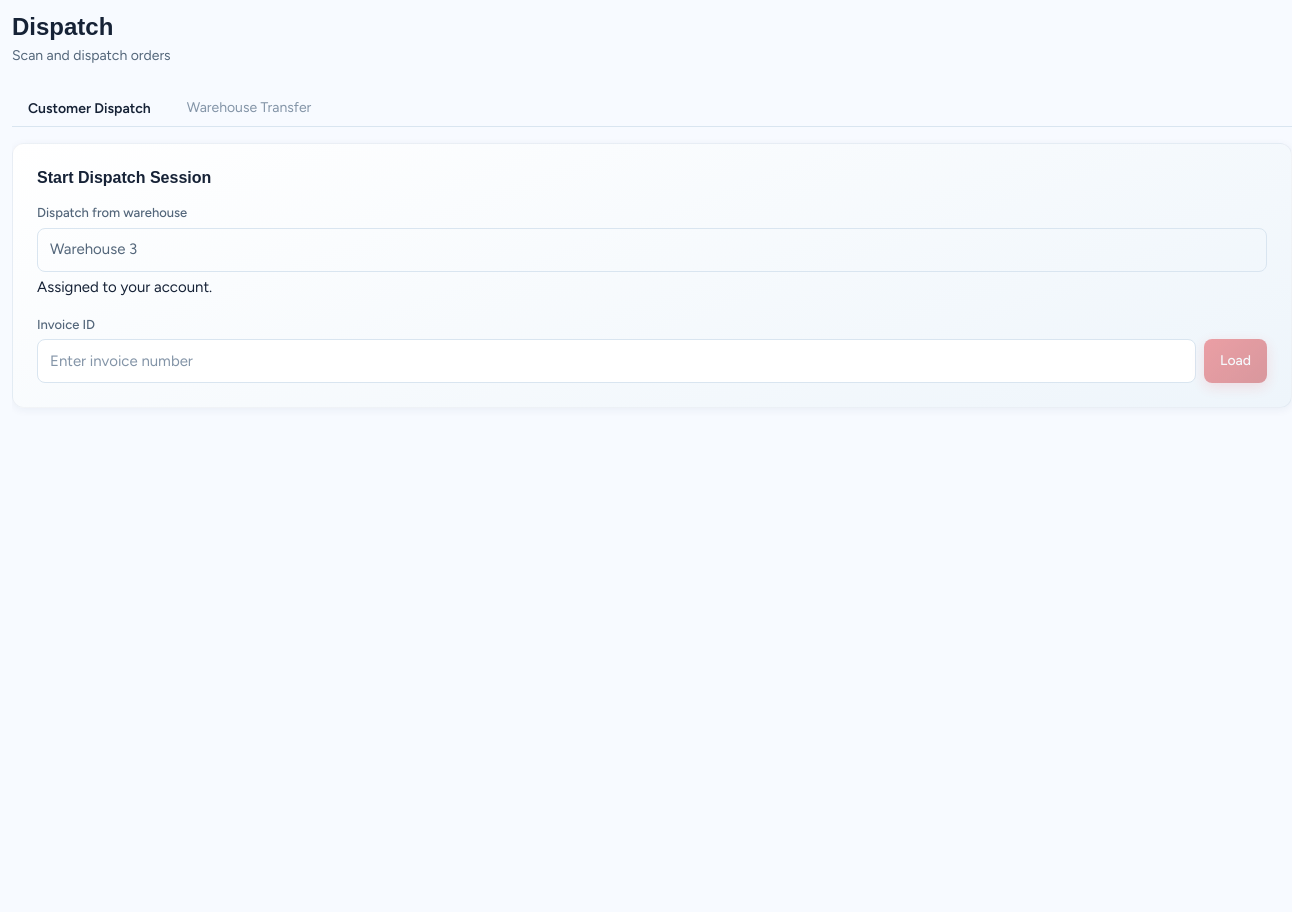
DispatchPage — after invoice loaded › shows availability after loading
This screenshot has width=1292, height=912.
Type "1" into the field labelled "Invoice ID" at (617, 361), box [37,339,1196,383]
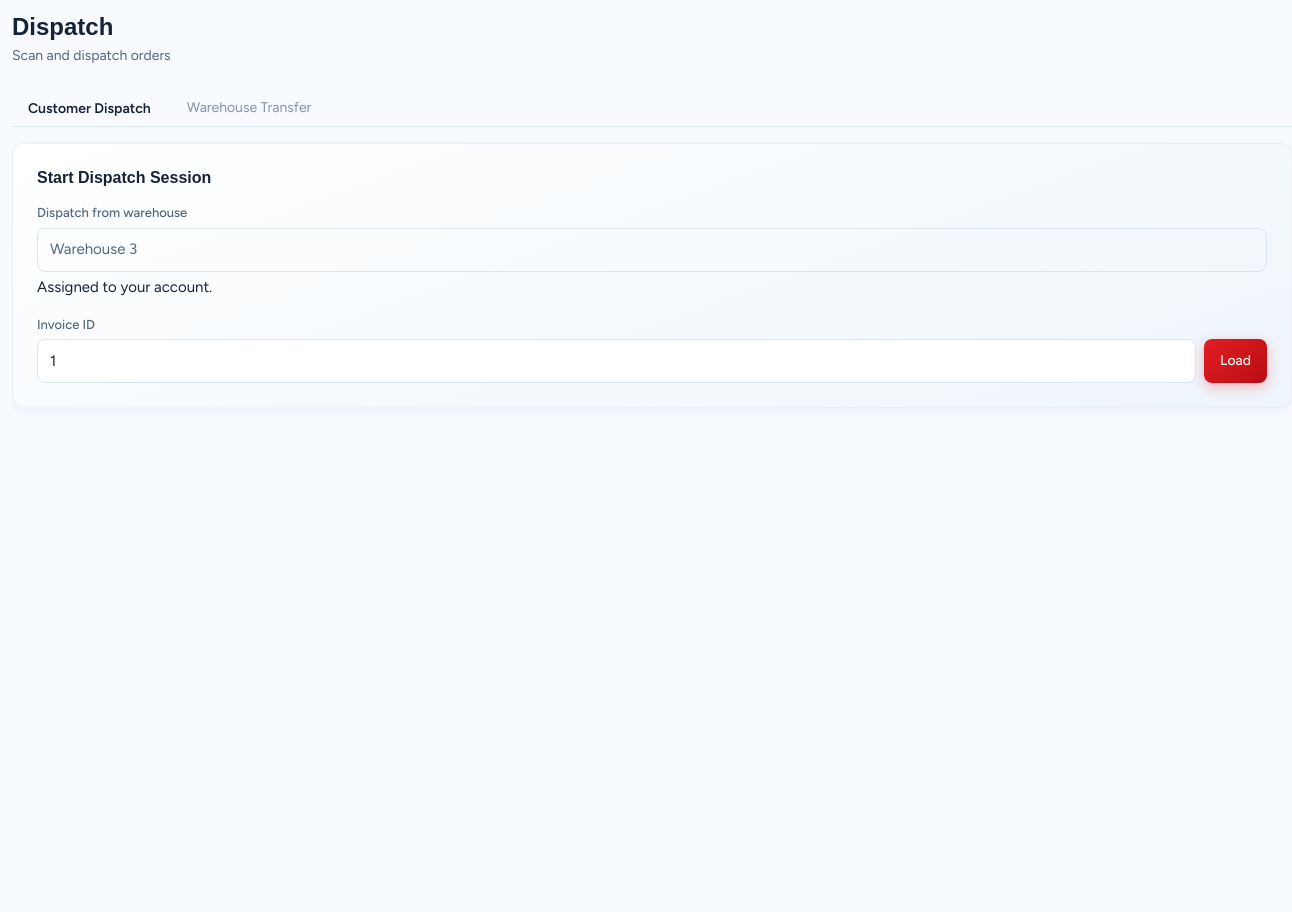
Click the button "Load" at (1236, 361), box [1204,339,1267,383]
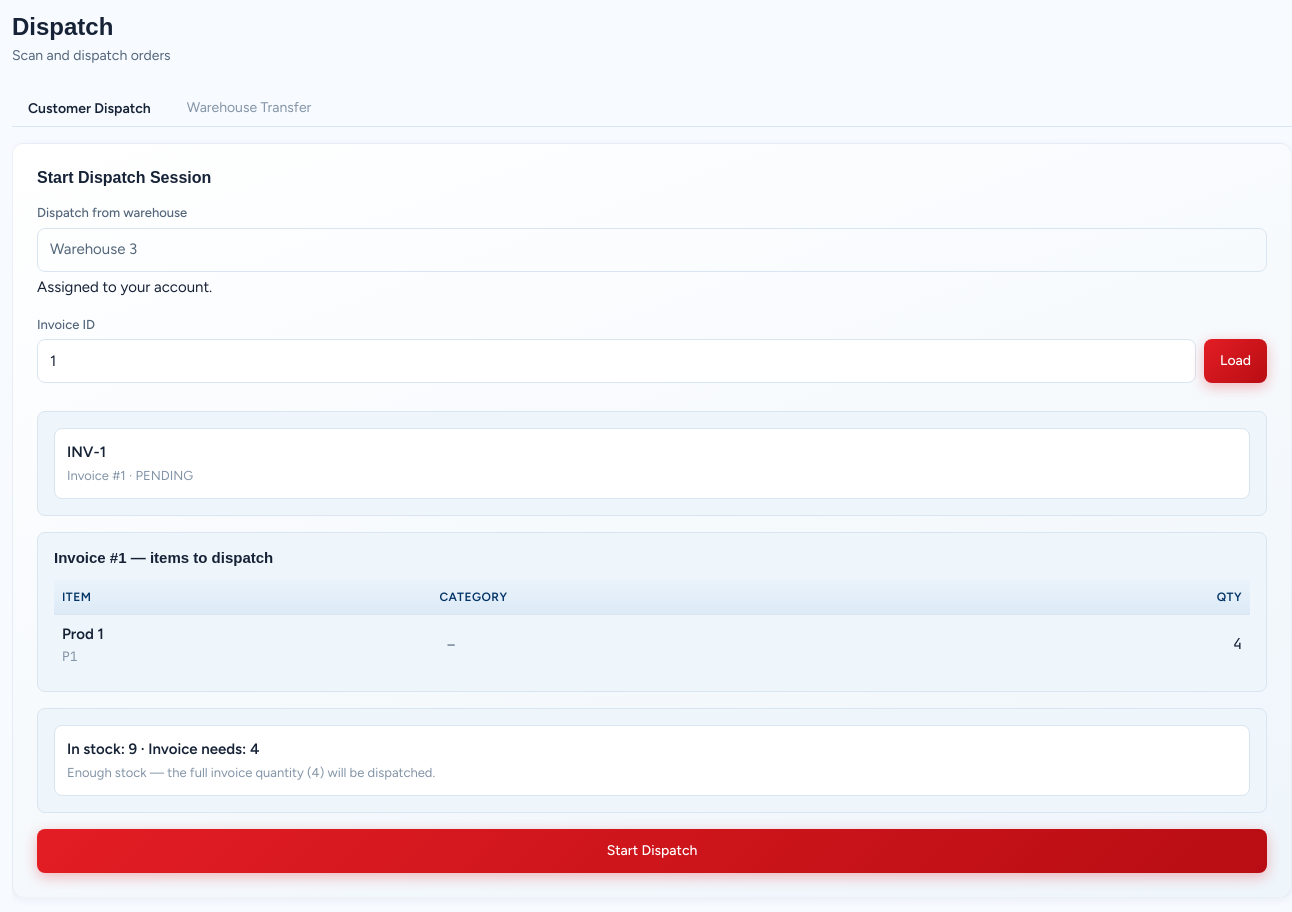
Check: the text "In stock: 9 · Invoice needs: 4" is shown, box [67,740,259,758]
